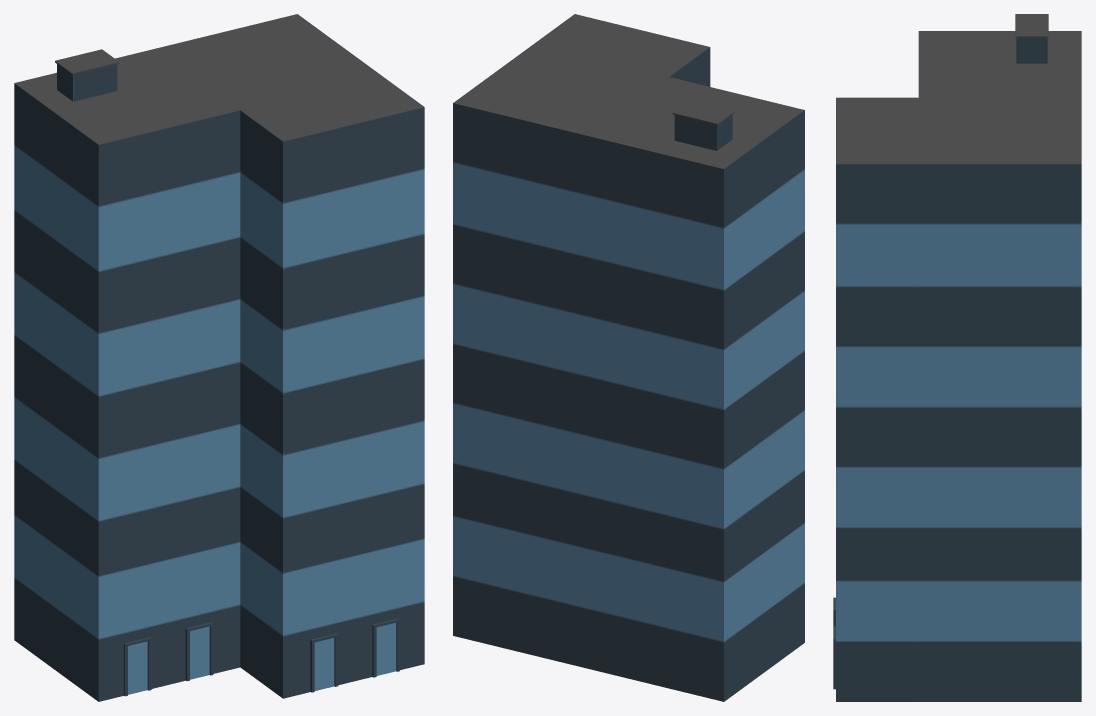
File: CityBuilding08.glb
The picture shows the model from 3 angles, left to right: view 1: azimuth 30°, elevation 25°; view 2: azimuth 150°, elevation 25°; view 3: azimuth 270°, elevation 25°; orthographic projection. The views are drawn at different scales.
Visible parts, largest first — view 1: CityBuilding08; view 2: CityBuilding08; view 3: CityBuilding08.
Part boxes in pixels (<box>): CityBuilding08: <box>14,14,424,701</box>; CityBuilding08: <box>453,14,804,701</box>; CityBuilding08: <box>833,14,1081,701</box>.
Size of what is drawn, in the model's own units: 10.85 by 21.44 by 8.53.
Materials: 1 (1 with a texture image).
